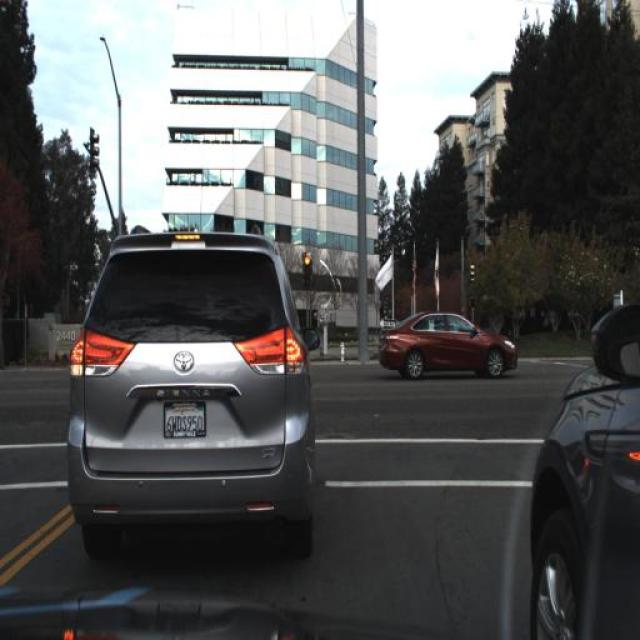car: (62, 232, 313, 570), (532, 304, 636, 636), (377, 306, 521, 386)
trafficLight-Green: (300, 249, 314, 289)
